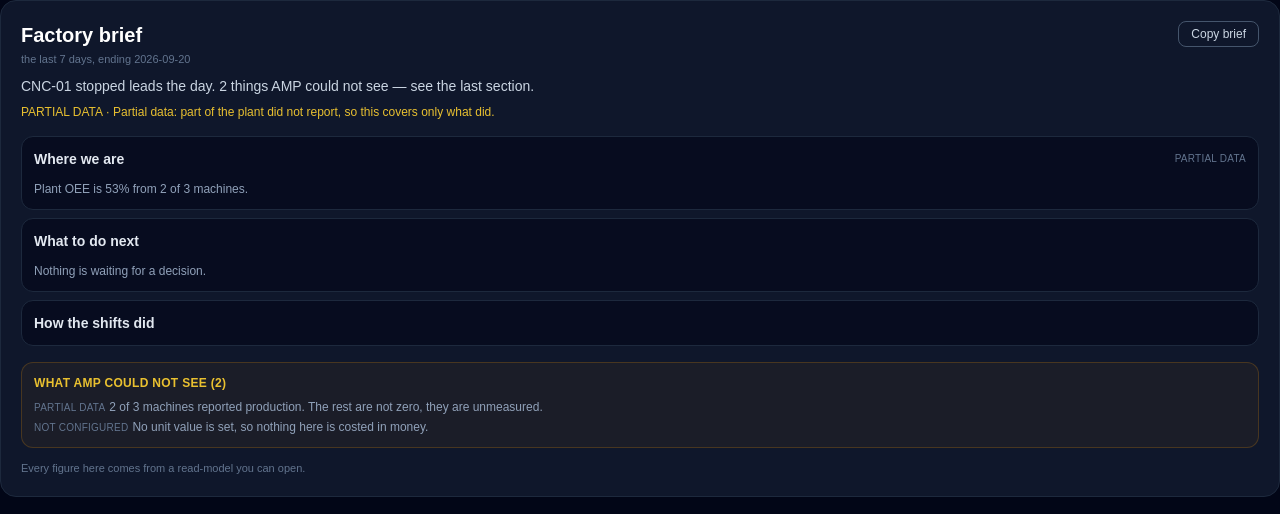
Test: DailyBriefSection › an opened section can be closed again
Click the button "Where we are PARTIAL DATA" at (79, 158), box [22,136,1258,180]
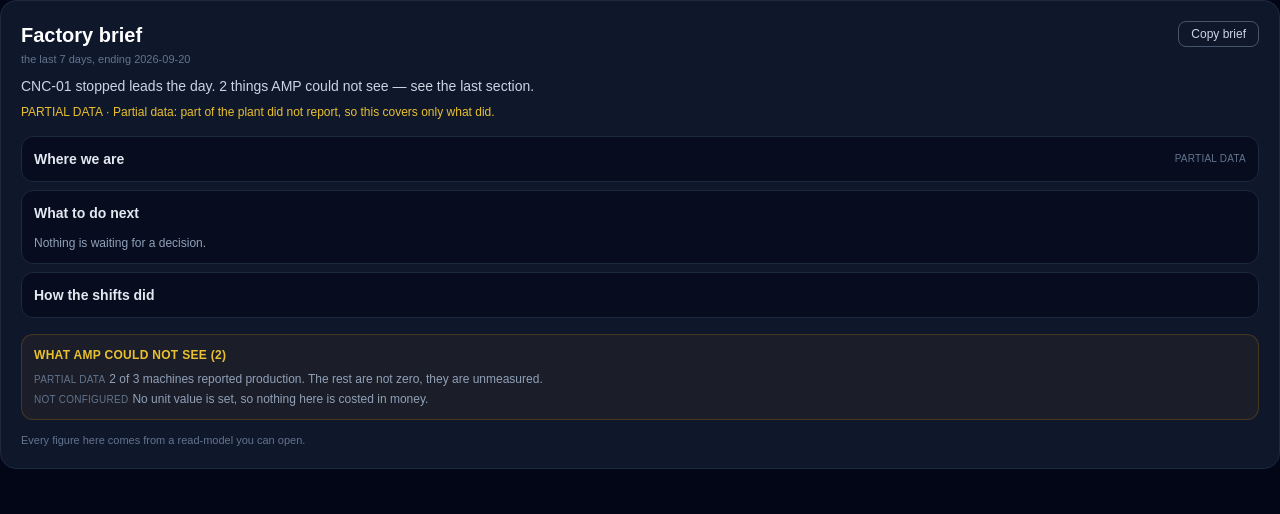
Result: the list item "Plant OEE is 53%" is gone
